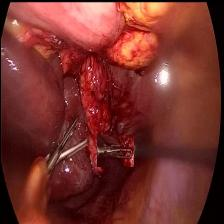Grasper: (44, 112, 90, 162), (96, 134, 133, 166)
